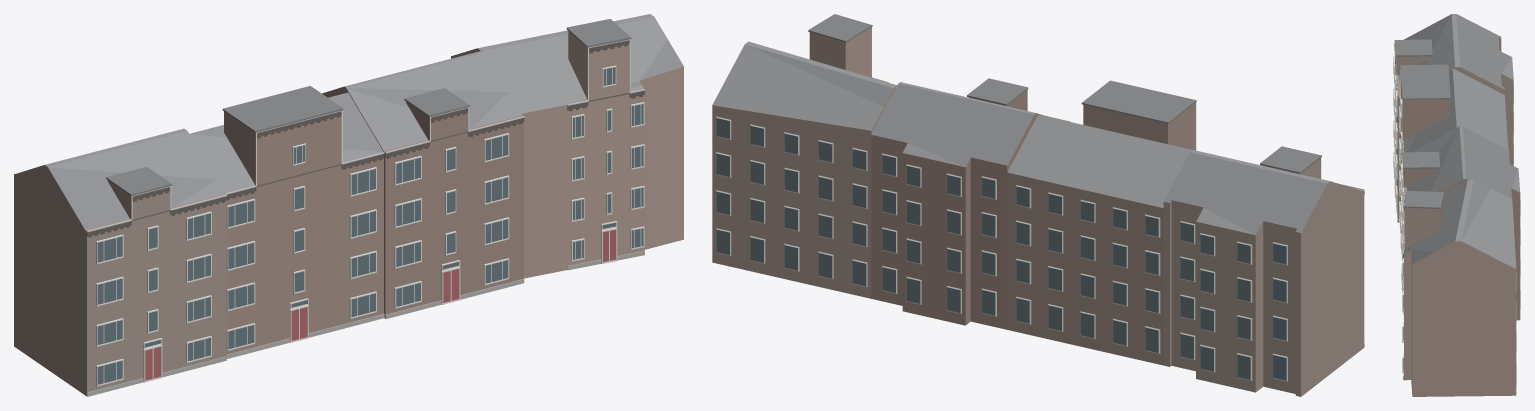
File: chunk-face-luthuli-21-41-r1.glb
The picture shows the model from 3 angles, left to right: view 1: azimuth 30°, elevation 25°; view 2: azimuth 150°, elevation 25°; view 3: azimuth 270°, elevation 25°; orthographic projection. The views are drawn at different scales.
Parts seen in each view (by area): view 1: face-luthuli-21-41-r1; view 2: face-luthuli-21-41-r1; view 3: face-luthuli-21-41-r1.
Part boxes in pixels (left/top/right/bottom): face-luthuli-21-41-r1: left=14, top=14, right=683, bottom=396; face-luthuli-21-41-r1: left=712, top=14, right=1364, bottom=396; face-luthuli-21-41-r1: left=1393, top=14, right=1520, bottom=396.
Size of the model in its own units: 46.96 by 16.18 by 11.04.
